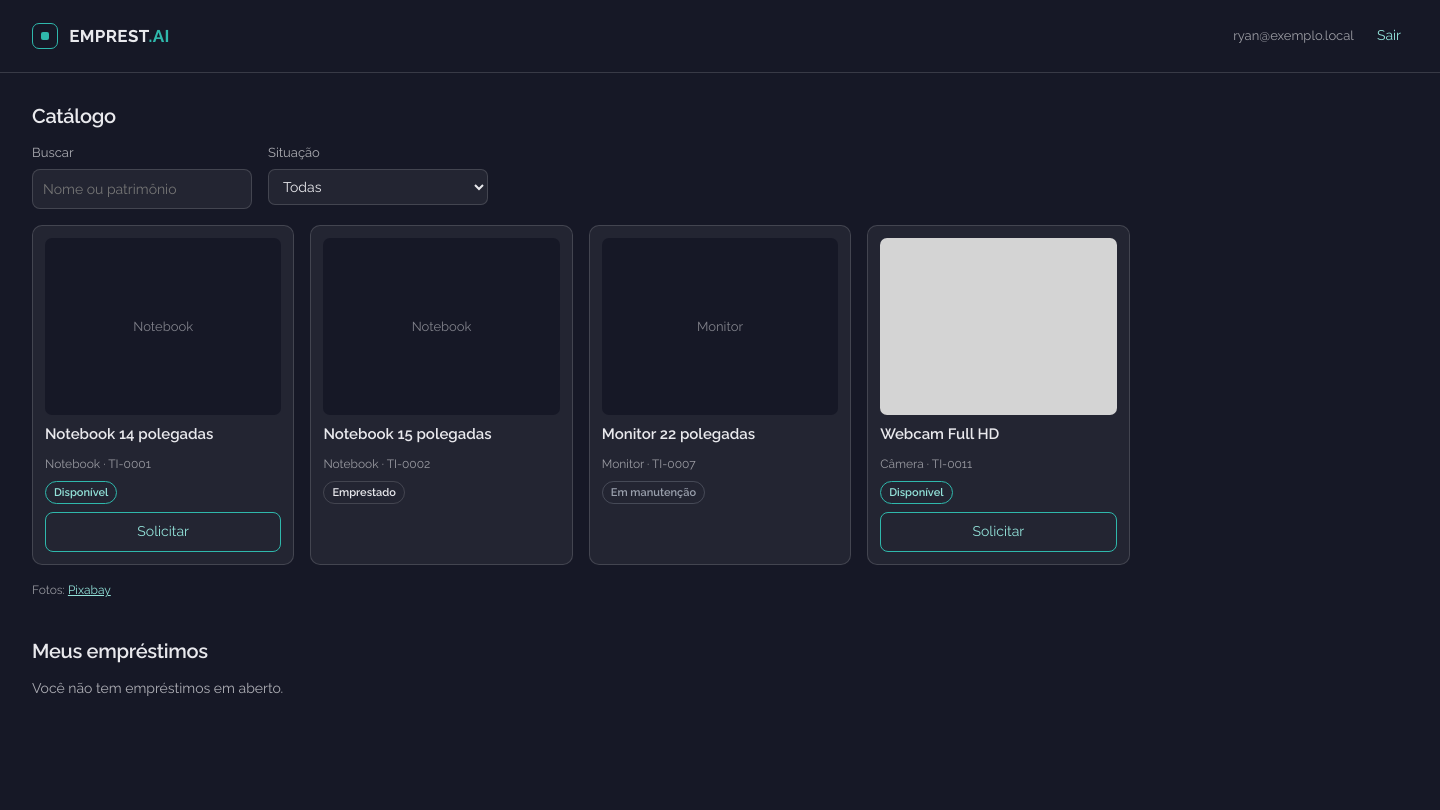
Test: catálogo › CA-03: busca por nome ou patrimônio e filtro por situação reduzem a lista
Later steps or results of the test are not shown.
expect the heading "Catálogo" is shown: met, box x1=32 y1=104 x2=116 y2=128
In the search field labelled "Buscar": (142, 189) x1=32 y1=169 x2=252 y2=209, type "ti-0002"
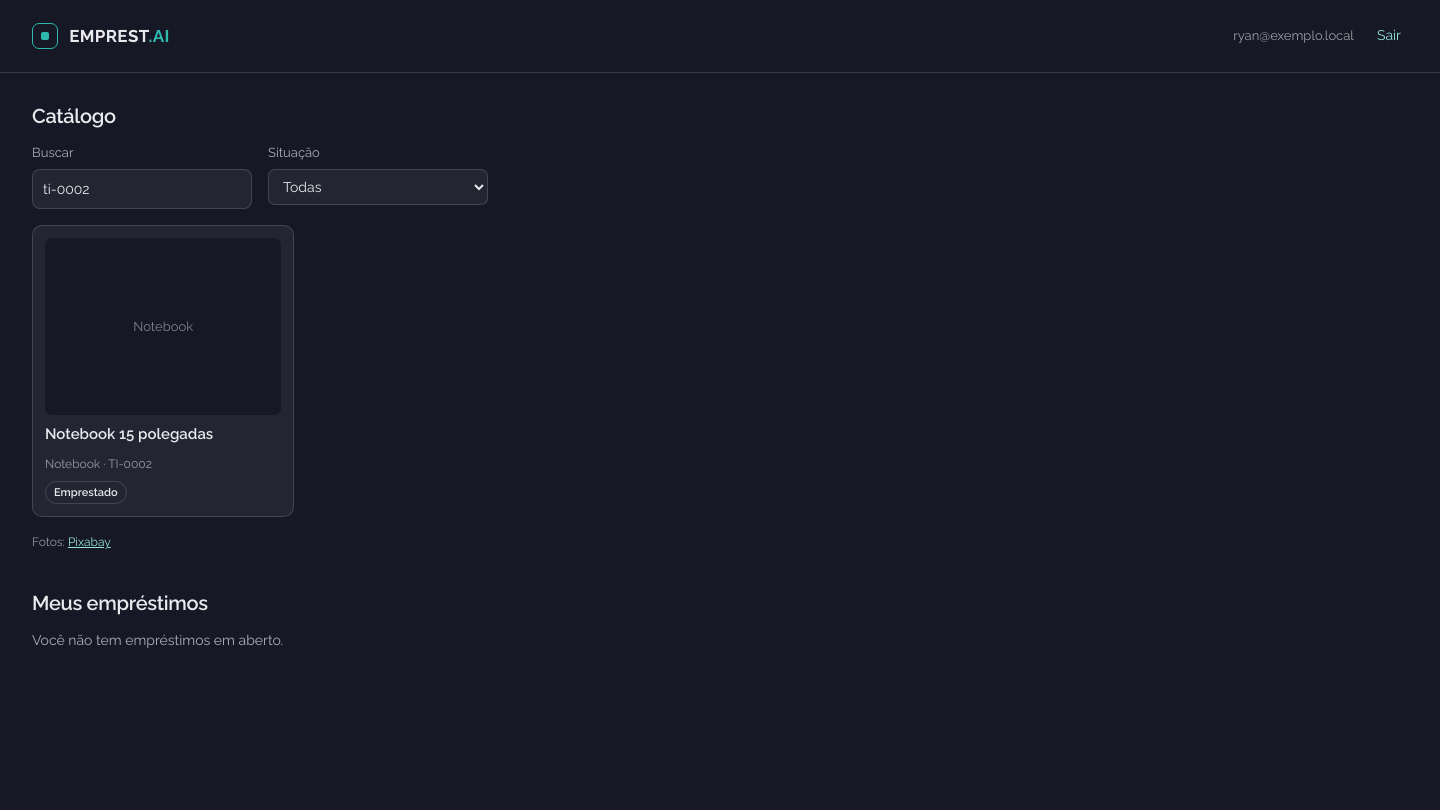
Replace the text in the search field labelled "Buscar" with "notebook": (142, 189) x1=32 y1=169 x2=252 y2=209
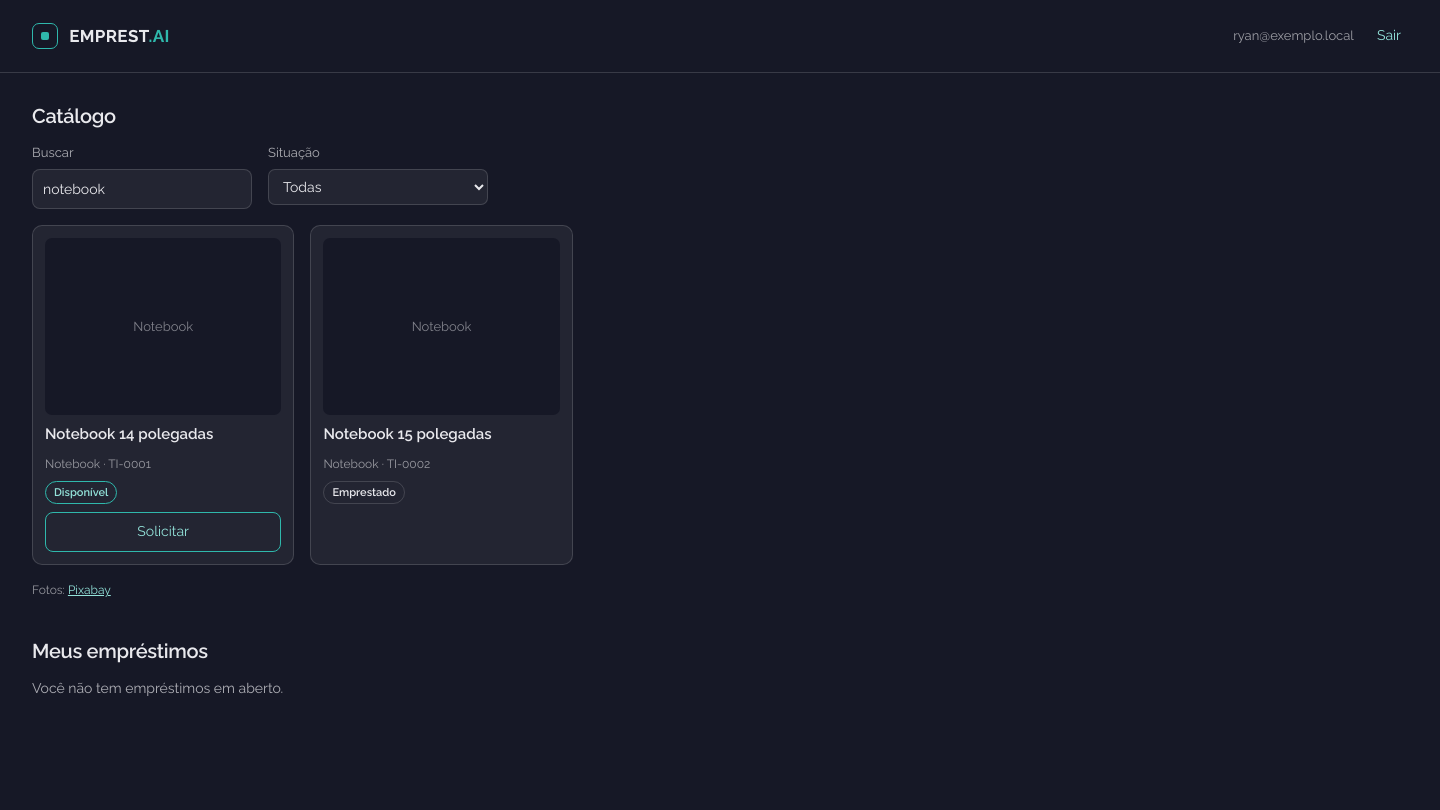
expect the number of list items is 2: met, box x1=32 y1=225 x2=294 y2=565; x1=310 y1=225 x2=573 y2=565
